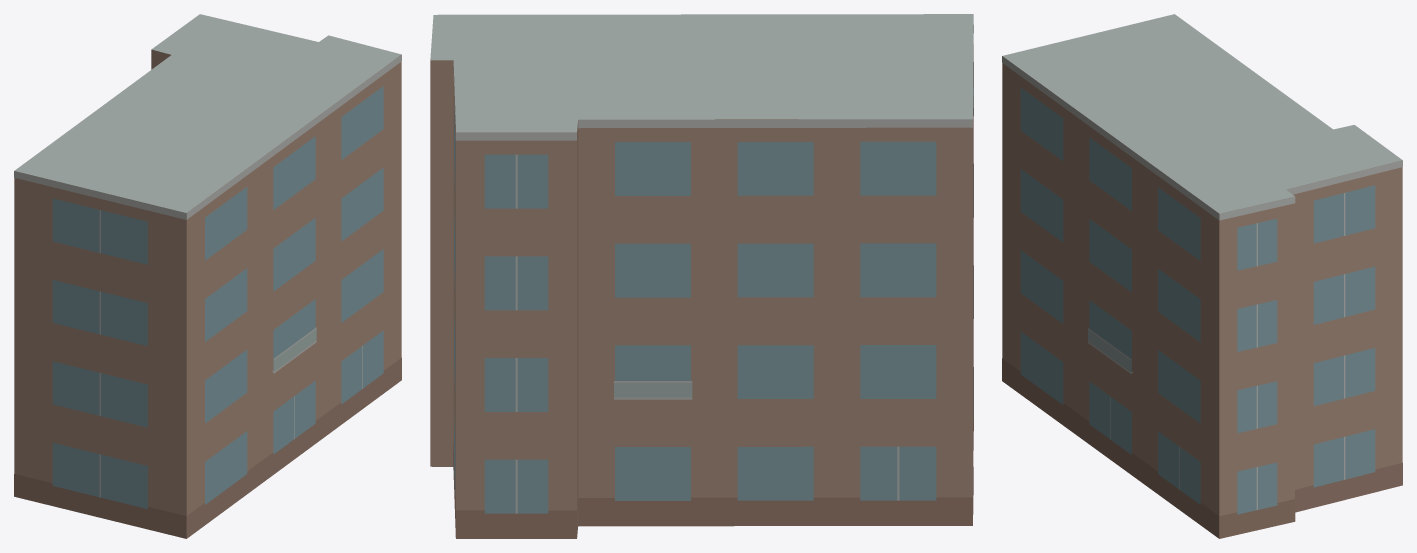
Rendered from survey-upis-32888269.glb.
3 renders of one model, left to right at view 1: azimuth 30°, elevation 25°; view 2: azimuth 150°, elevation 25°; view 3: azimuth 270°, elevation 25°, orthographic. The views are drawn at different scales.
Visible parts, largest first — view 1: survey-upis-32888269.tmp; view 2: survey-upis-32888269.tmp; view 3: survey-upis-32888269.tmp.
Boxes of the visible parts, x1,y1,x2,y2 form: survey-upis-32888269.tmp: (14, 14, 401, 538); survey-upis-32888269.tmp: (430, 14, 973, 538); survey-upis-32888269.tmp: (1002, 14, 1402, 538).
Bounding box in the file's own units: 15.29 × 11.6 × 12.96.
